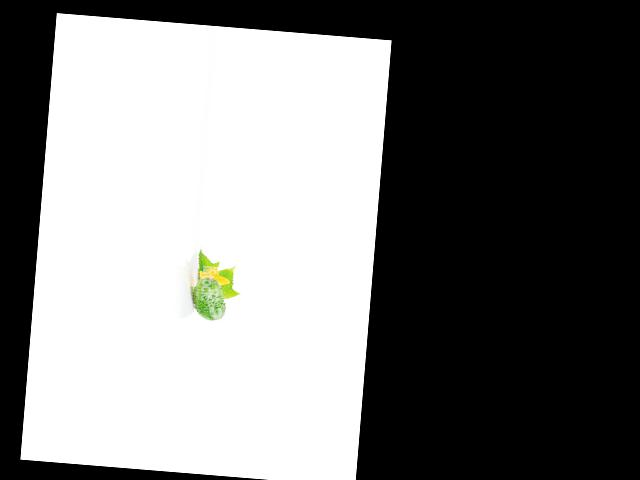cucumber: (191, 277, 227, 321)
